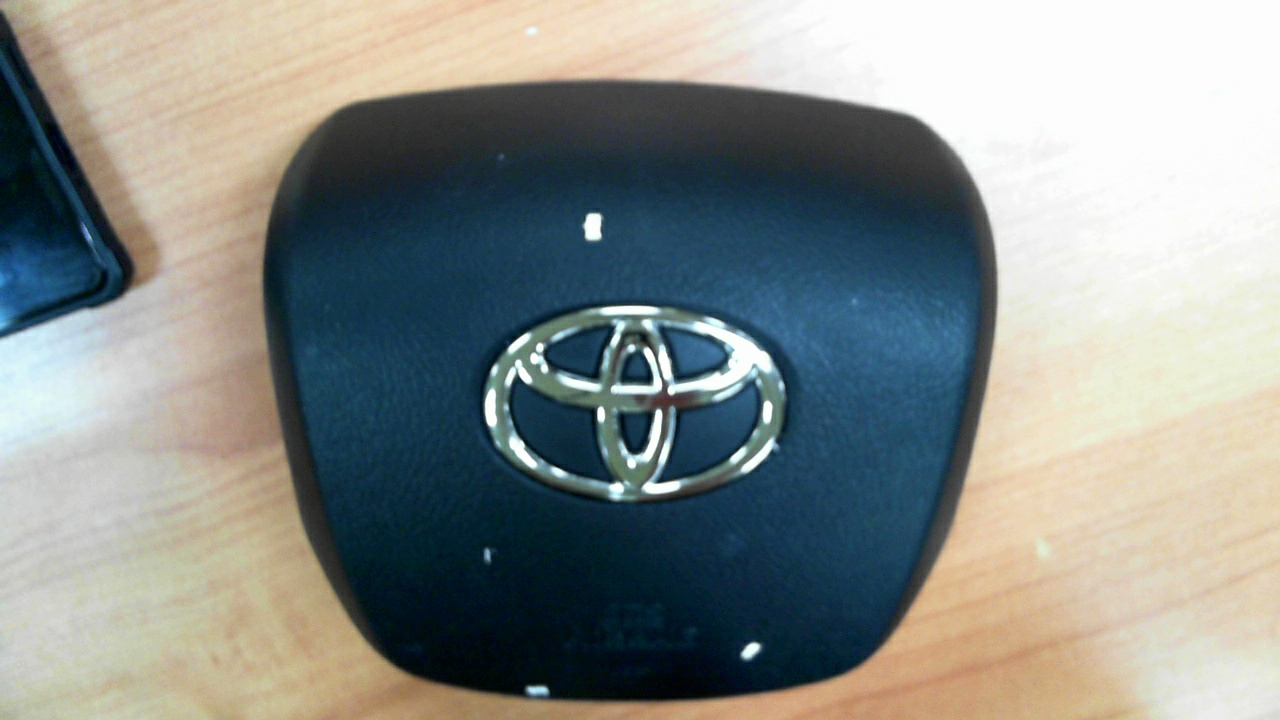Airbag: (258, 79, 1001, 704)
Mark: (582, 212, 604, 241), (739, 641, 761, 661), (524, 684, 551, 698), (482, 546, 493, 564)
